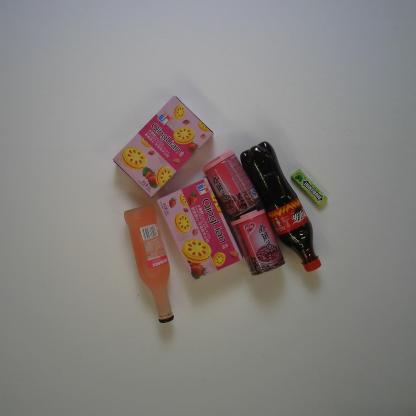Alcohol: (123, 203, 175, 325)
Canned Food: (200, 148, 263, 221), (228, 206, 287, 277)
Dessert: (111, 93, 217, 198), (157, 177, 245, 283)
Drink: (239, 140, 324, 274)
Gum: (290, 169, 330, 209)
